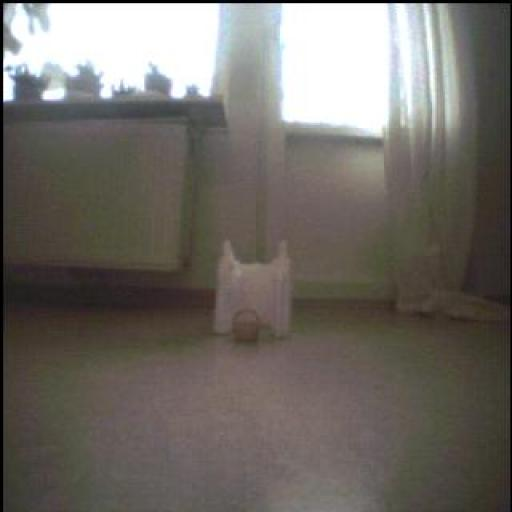Basket: (233, 310, 262, 342)
